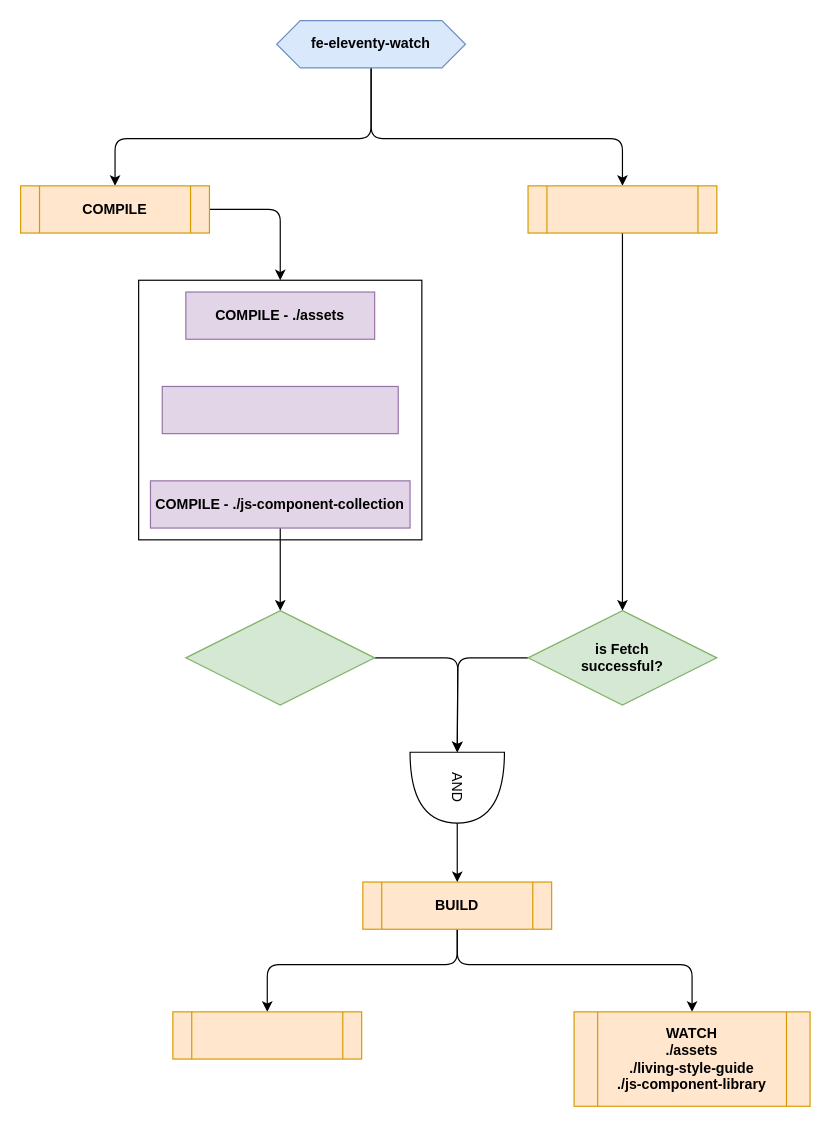
The diagram is 831 pixels wide and 1127 high, and some of its shapes have lost their labels. Each missing label, with the box of its shape:
COMPILE - ./living-style-guide: (161, 385, 398, 434)
FETCH DATA: (527, 185, 717, 233)
Is compilation successful?: (185, 609, 375, 705)
WATCH ./eleventy-site: (172, 1011, 362, 1059)
